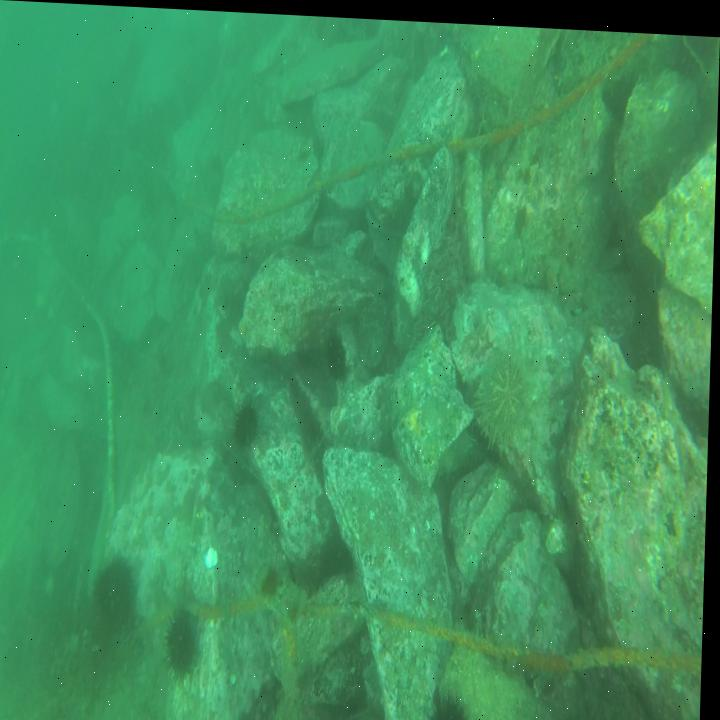echinus: (94, 547, 142, 630), (165, 602, 204, 676), (427, 680, 486, 720), (234, 390, 265, 449), (326, 328, 354, 381)
